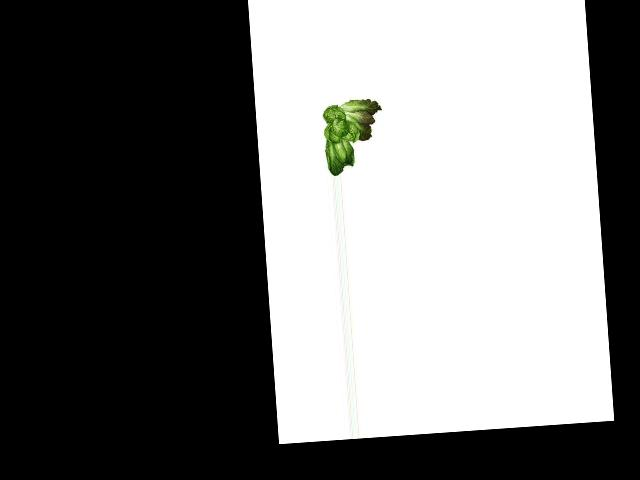lettuce: (317, 96, 389, 177)
